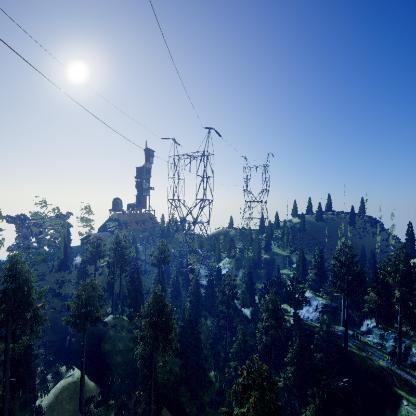tower: (158, 124, 224, 284), (237, 149, 277, 243)
